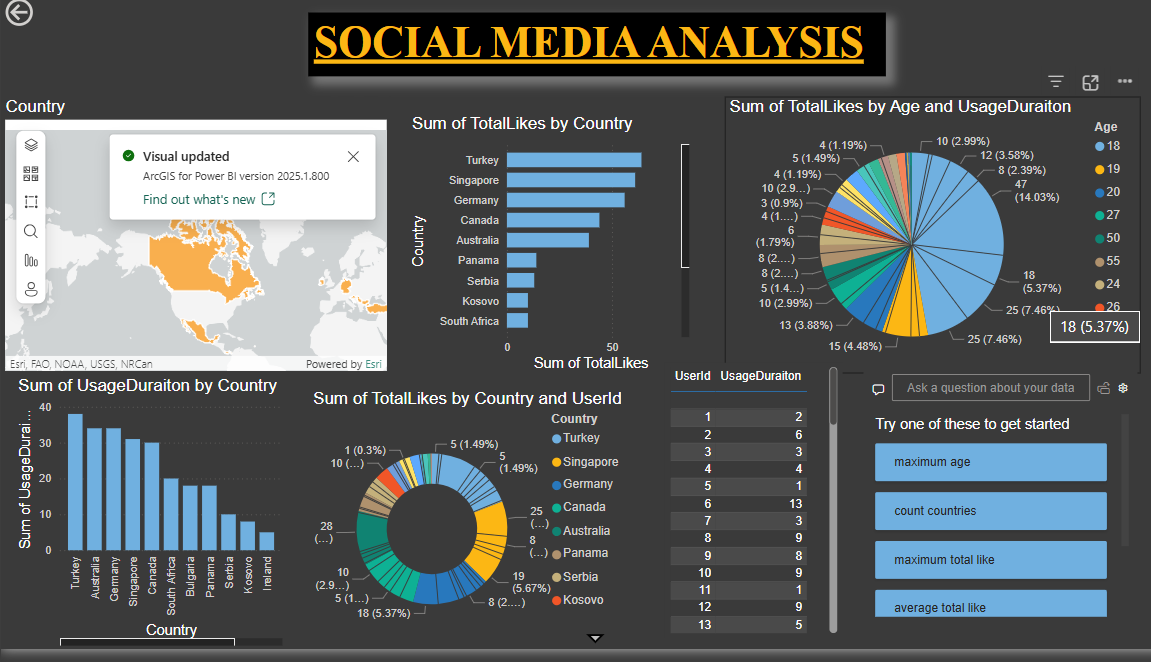

What the dashboard file says about the page in this screenshot:
{"tool":"powerbi","page":{"name":"Page 1","canvas":[1280,720],"ordinal":0},"visuals":[{"type":"pieChart","fields":{"Y":["Sum(social-media[1].TotalLikes)"],"Category":["social-media[1].Age"],"Series":["social-media[1].UsageDuraiton"]},"box":[794.5,112.5,456.9,304.6],"z":0},{"type":"clusteredBarChart","fields":{"Category":["social-media[1].Country"],"Y":["Sum(social-media[1].TotalLikes)"]},"box":[446,131.7,314.2,286.8],"z":1000},{"type":"qnaVisual","box":[946.8,392.5,300.5,300.5],"z":2000},{"type":"tableEx","fields":{"Values":["social-media[1].UserId","social-media[1].UsageDuraiton"]},"box":[728.6,404.8,194.9,301.9],"z":3000},{"type":"textbox","box":[337.6,20.6,634,70],"z":4000},{"type":"clusteredColumnChart","fields":{"Y":["Sum(social-media[1].UsageDuraiton)"],"Category":["social-media[1].Country"]},"box":[13.7,418.5,300.5,301.9],"z":5000},{"type":"donutChart","fields":{"Category":["social-media[1].Country"],"Y":["Sum(social-media[1].TotalLikes)"],"Series":["social-media[1].UserId"]},"box":[337.6,433.6,366.4,286.8],"z":6000},{"type":"esriVisual","fields":{"Location":["social-media[1].Country"]},"box":[0,112.5,428.1,306],"z":7000},{"type":"actionButton","box":[0,0,100,40],"z":8000}]}

Visuals, with their boxes on the page's 1280x720 design canvas (x1, y1, x2, y2). These are canvas units, not pixel positions in the 1151x662 screenshot, which may show the page scaled, cropped or inside an application window:
pieChart - Sum(social-media[1].TotalLikes) x social-media[1].Age: bbox(794, 112, 1251, 417)
clusteredBarChart - social-media[1].Country x Sum(social-media[1].TotalLikes): bbox(446, 132, 760, 418)
qnaVisual: bbox(947, 392, 1247, 693)
tableEx - social-media[1].UserId x social-media[1].UsageDuraiton: bbox(729, 405, 924, 707)
textbox: bbox(338, 21, 972, 91)
clusteredColumnChart - Sum(social-media[1].UsageDuraiton) x social-media[1].Country: bbox(14, 418, 314, 720)
donutChart - social-media[1].Country x Sum(social-media[1].TotalLikes): bbox(338, 434, 704, 720)
esriVisual - social-media[1].Country: bbox(0, 112, 428, 418)
actionButton: bbox(0, 0, 100, 40)
